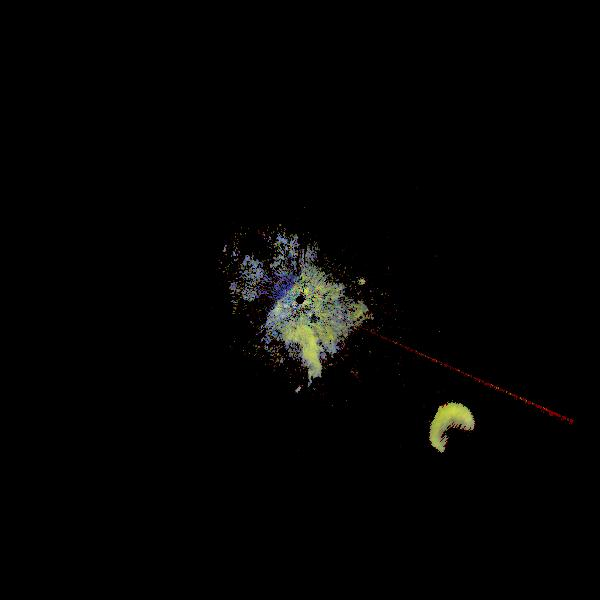roost: (252, 315, 330, 393), (424, 399, 499, 474)
